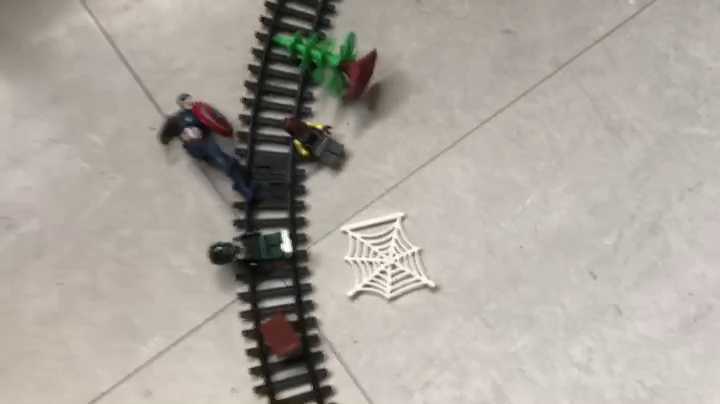box: (258, 312, 304, 363)
people: (157, 92, 265, 202), (208, 227, 297, 277), (280, 118, 350, 175)
tree: (269, 28, 379, 103)
web: (339, 211, 440, 301)
